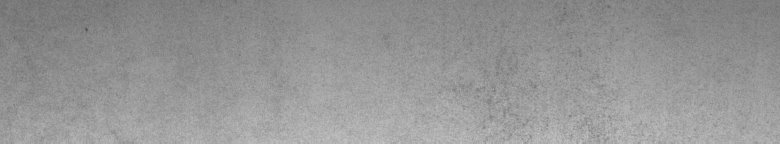ib: (477, 50, 584, 128)
